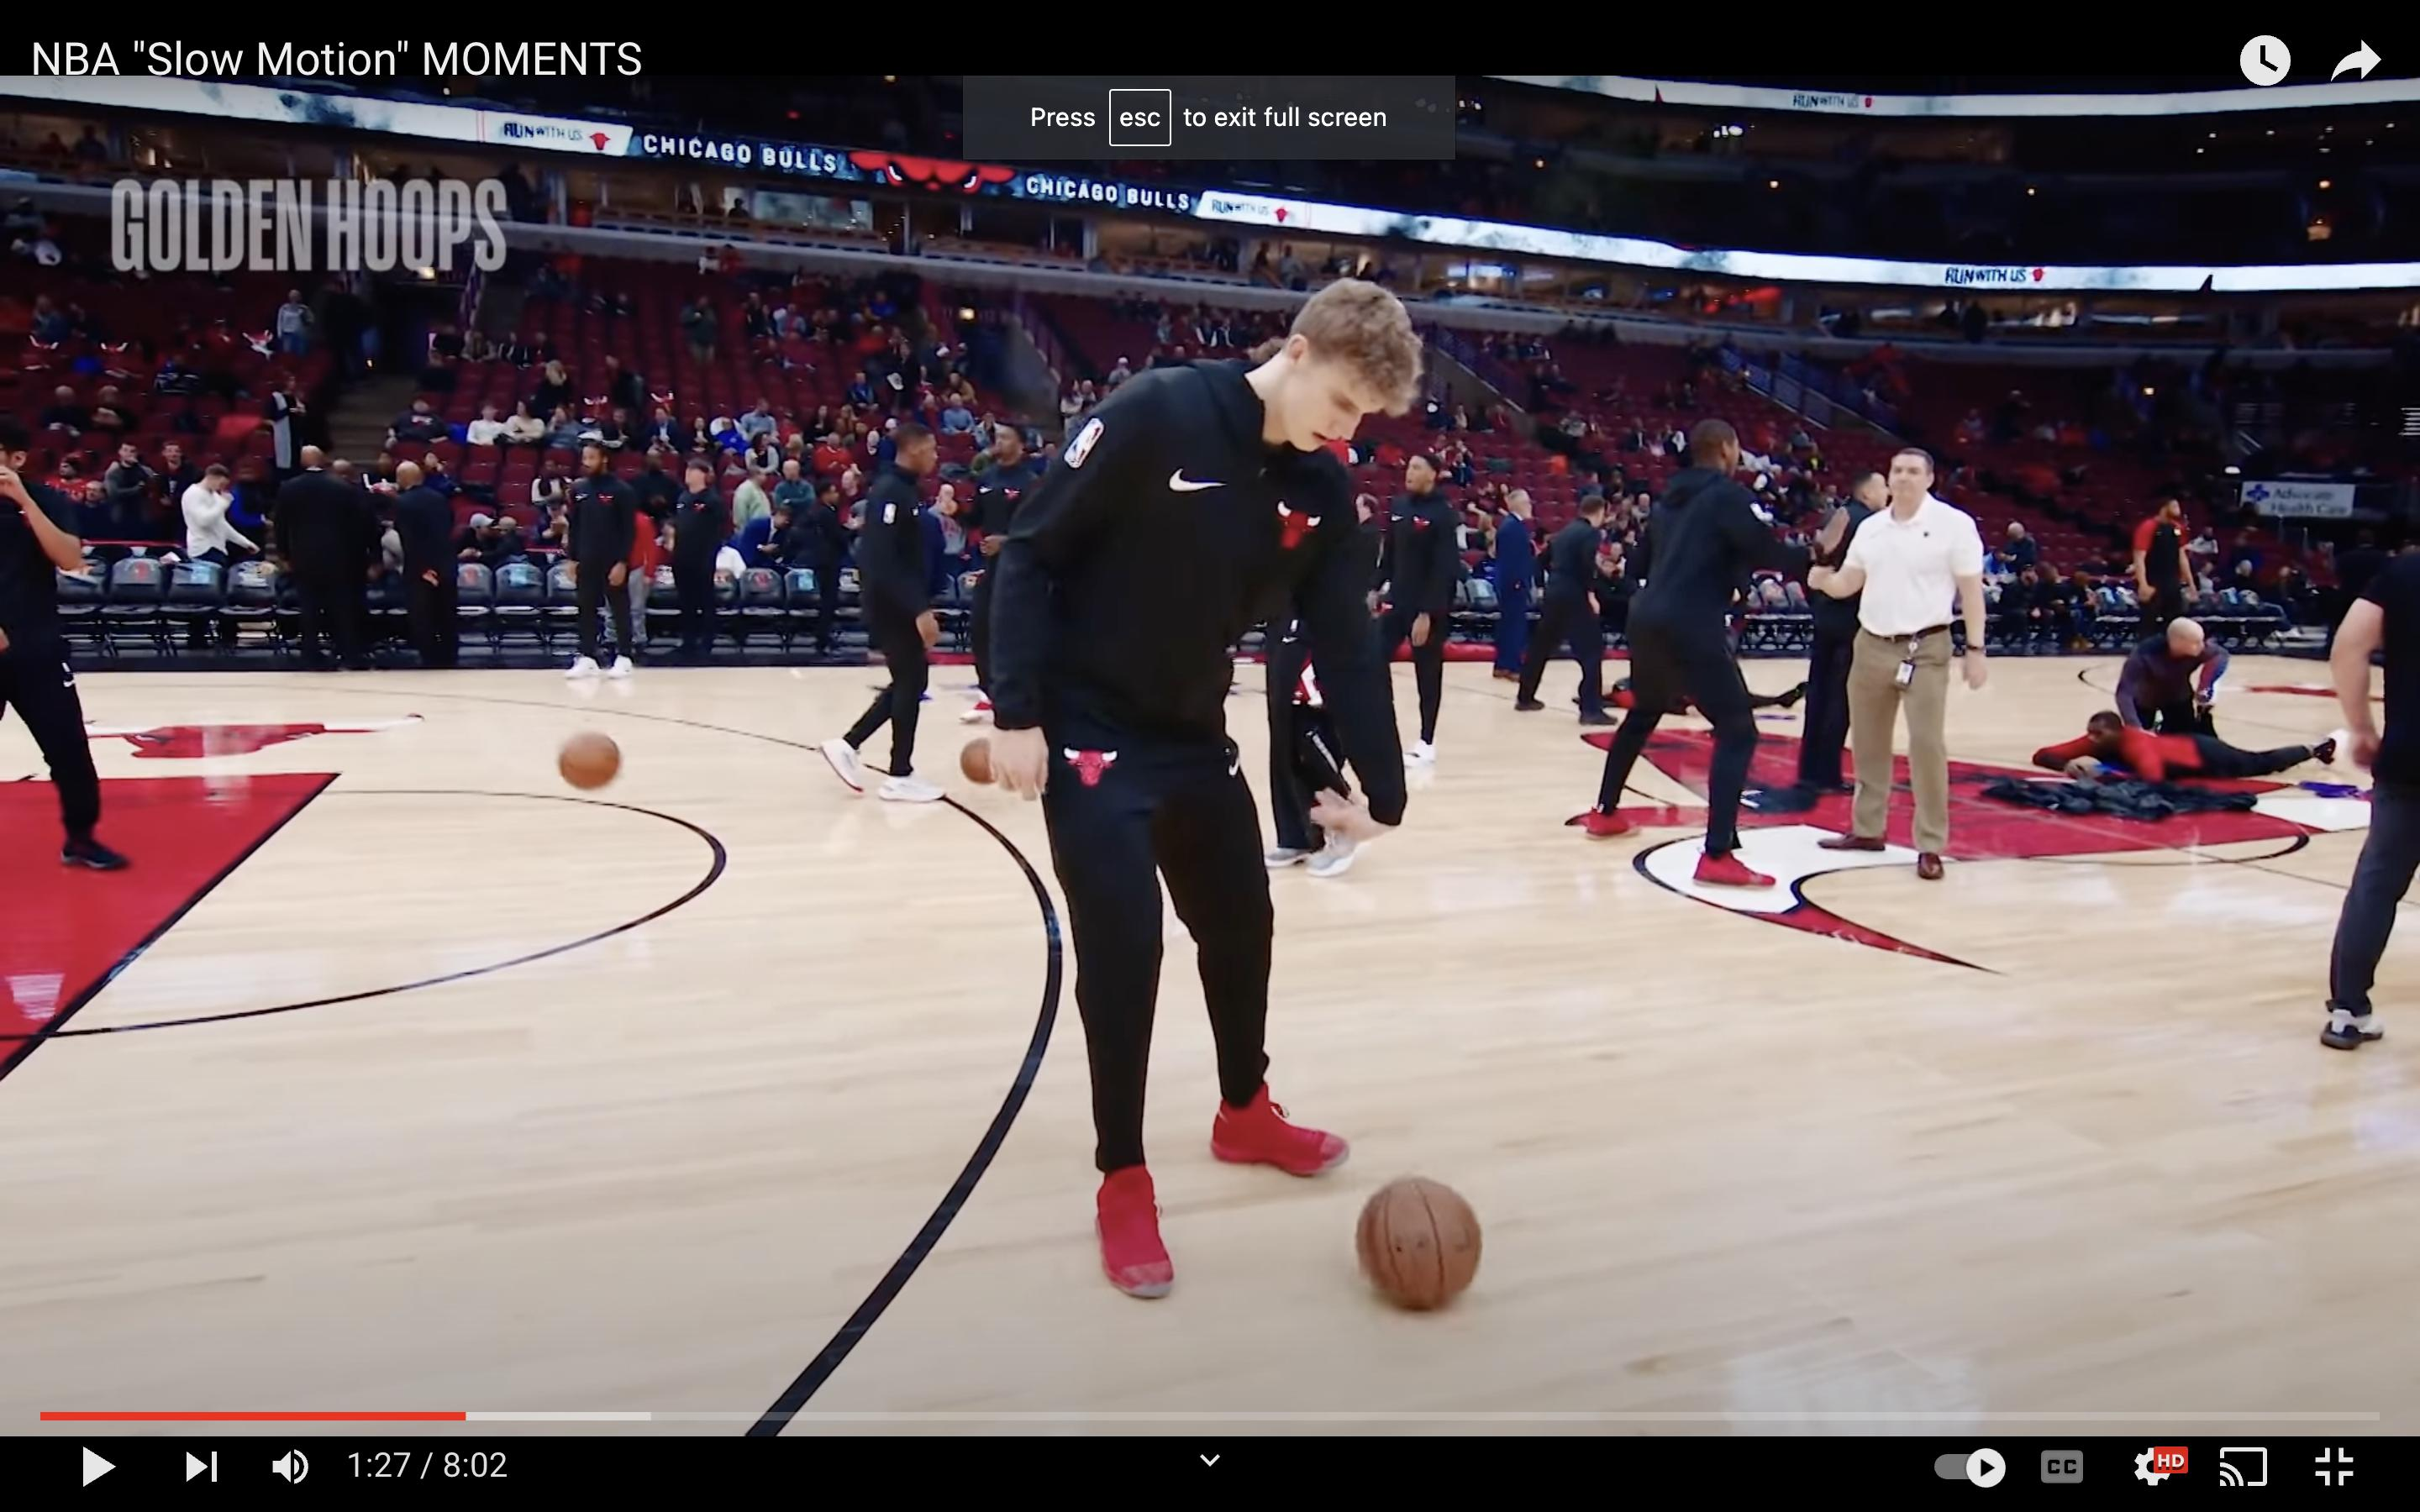Ball: (1347, 1172, 1490, 1336), (546, 722, 631, 799), (951, 728, 1012, 791)
Dribble: (1365, 1273, 1479, 1336)
Person: (979, 260, 1426, 1287)
